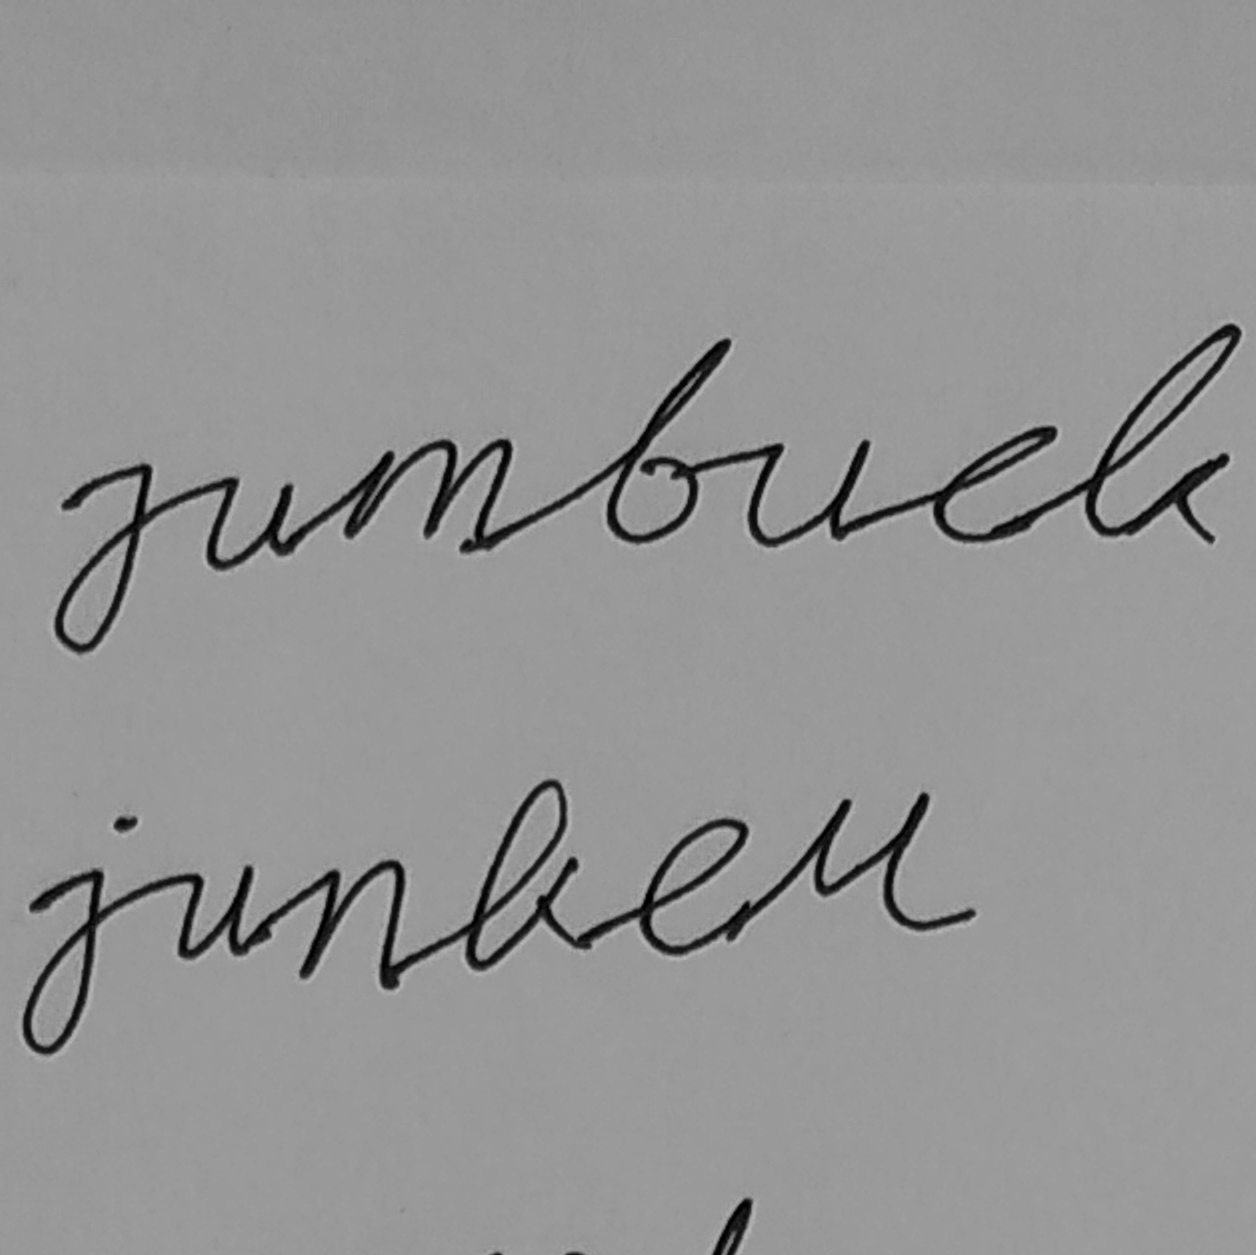b: (603, 334, 734, 547)
c: (927, 421, 1059, 544)
j: (51, 459, 157, 660)
k: (1078, 318, 1245, 552)
m: (340, 431, 519, 562)
u: (743, 436, 871, 550), (199, 470, 296, 575)
